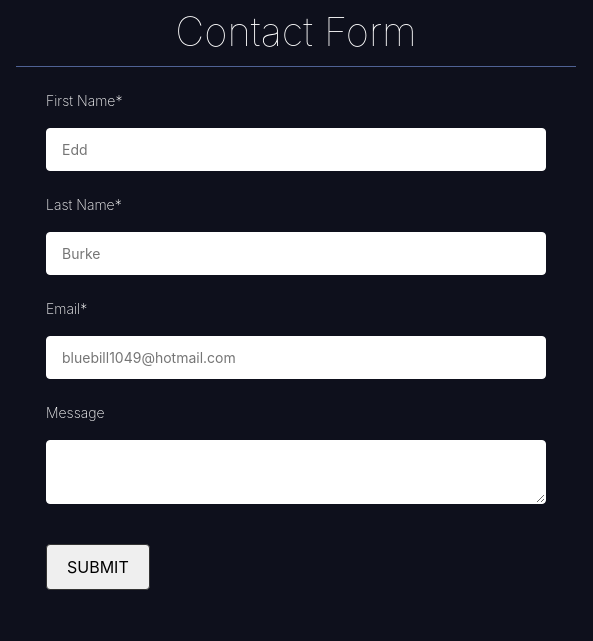
renders "email must be a valid email address" if an invalid email is entered
The width and height of the screenshot is (593, 641).
In the field labelled "Email*": (296, 358) [46,336,546,379], type "email"
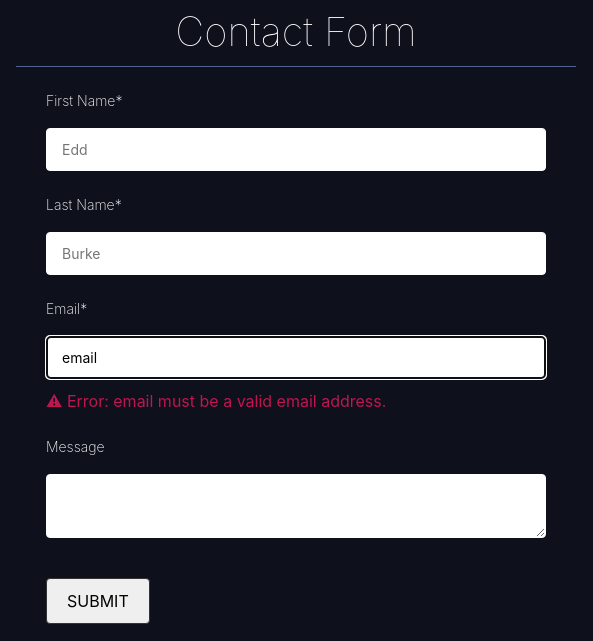
expect the number of elements with test id "error" is 1: met, box [67,391,386,411]
